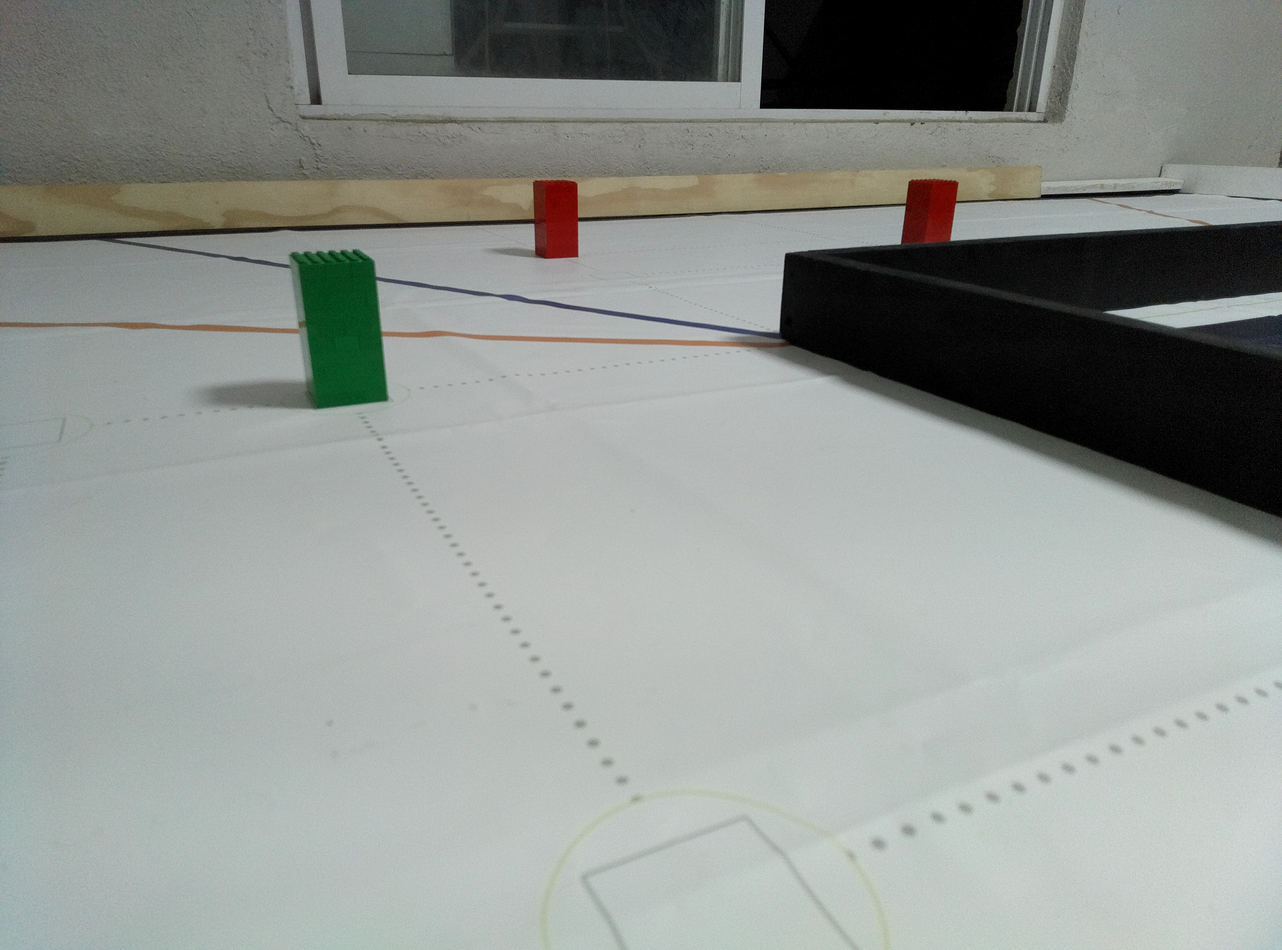greenbox: (288, 247, 388, 410)
redbox: (900, 178, 959, 245), (533, 179, 581, 259)
